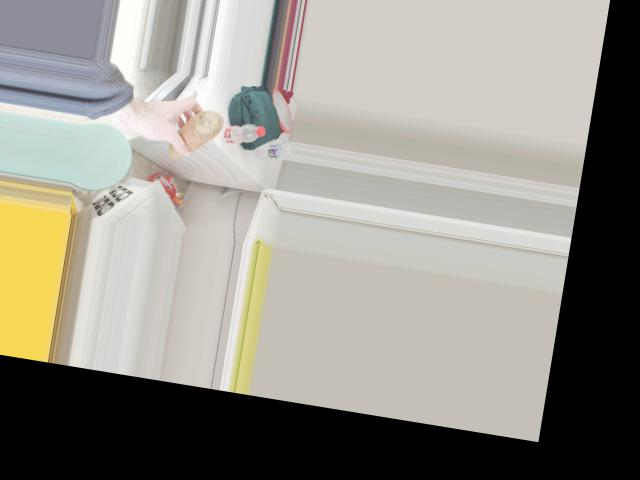sweet_potato: (166, 100, 224, 170)
